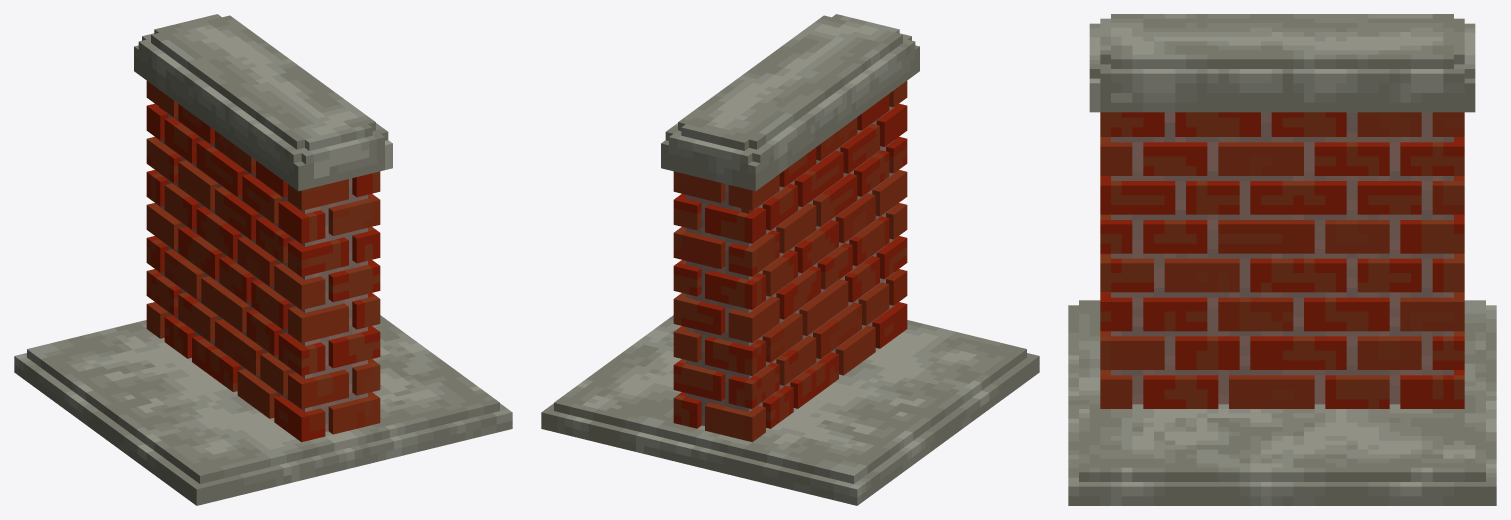
The model's file is Wall.obj.
3 views of the same model, side by side, from view 1: azimuth 30°, elevation 25°; view 2: azimuth 150°, elevation 25°; view 3: azimuth 270°, elevation 25° (orthographic). The views are drawn at different scales.
Size of the model in its own units: 4 by 3.9 by 4.
1 material, 1 textured.
